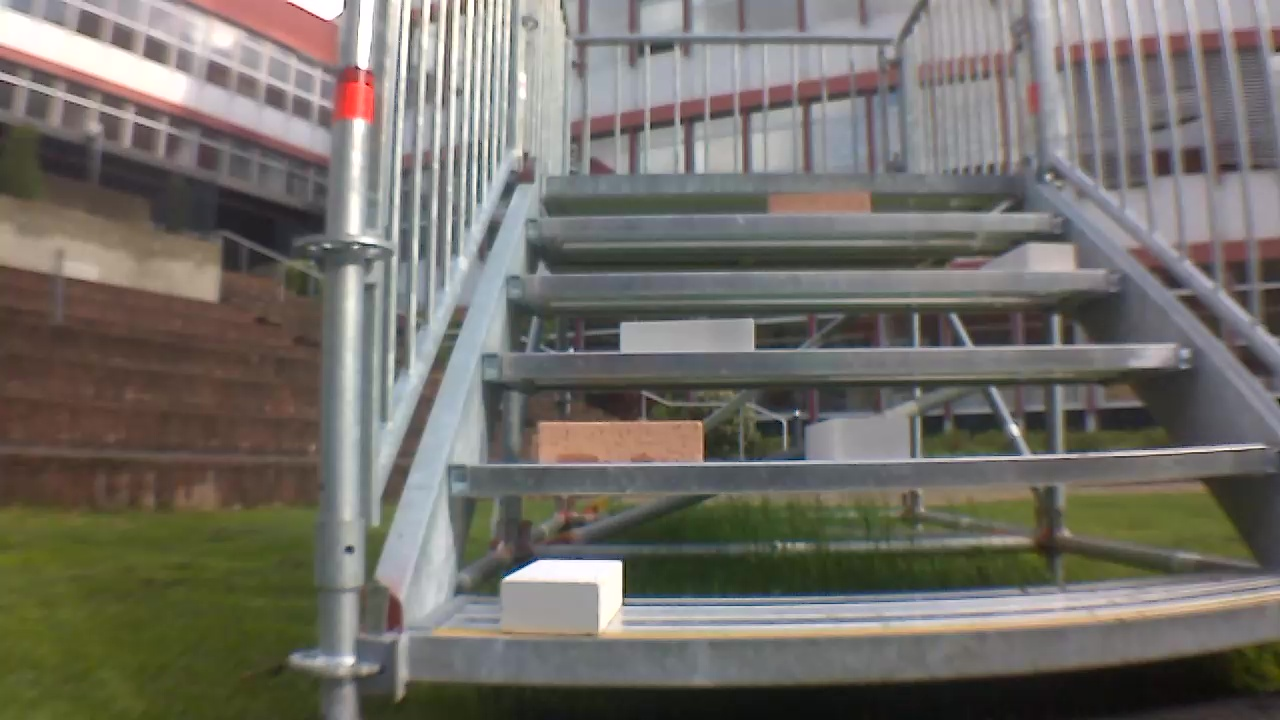brick: (497, 560, 629, 639), (532, 418, 707, 462), (609, 318, 757, 353), (805, 418, 911, 461), (970, 241, 1083, 276), (767, 191, 872, 213)
edge: (407, 597, 1280, 685), (440, 446, 1279, 496), (477, 346, 1193, 380), (501, 268, 1125, 304), (522, 211, 1070, 244), (535, 175, 1026, 197)
steps: (393, 175, 1280, 699)
